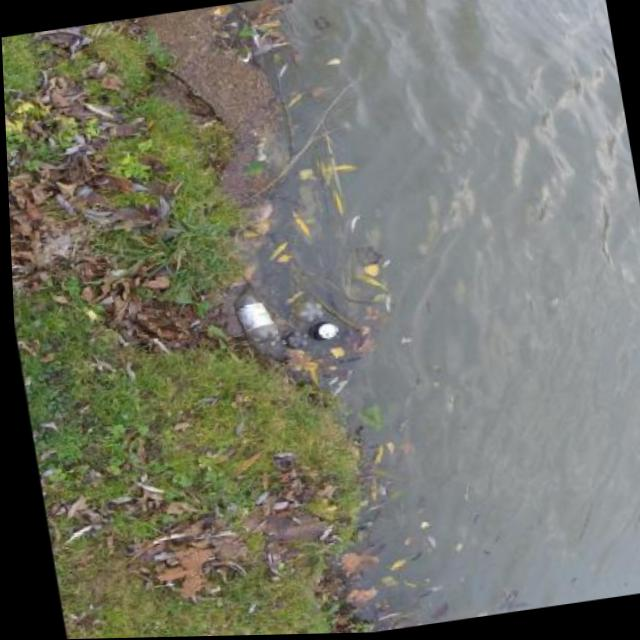metal: (308, 319, 337, 342)
plastic: (231, 287, 277, 345), (291, 299, 323, 324), (280, 329, 308, 351)
